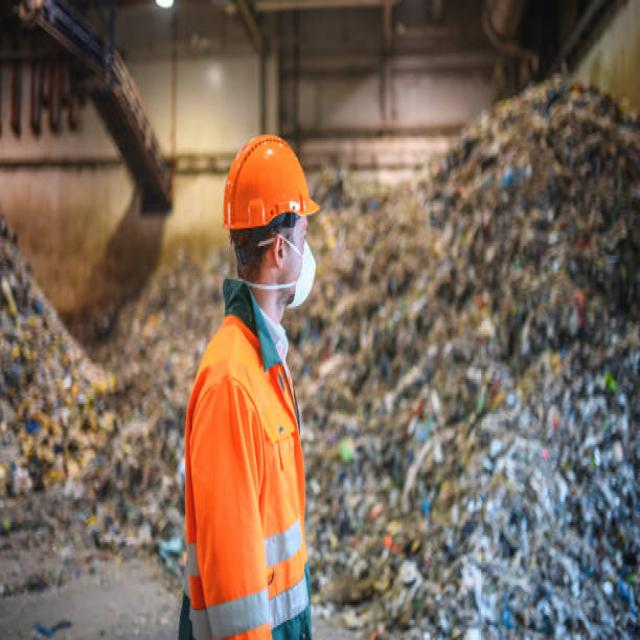trash: (353, 103, 632, 572), (21, 308, 170, 492)
